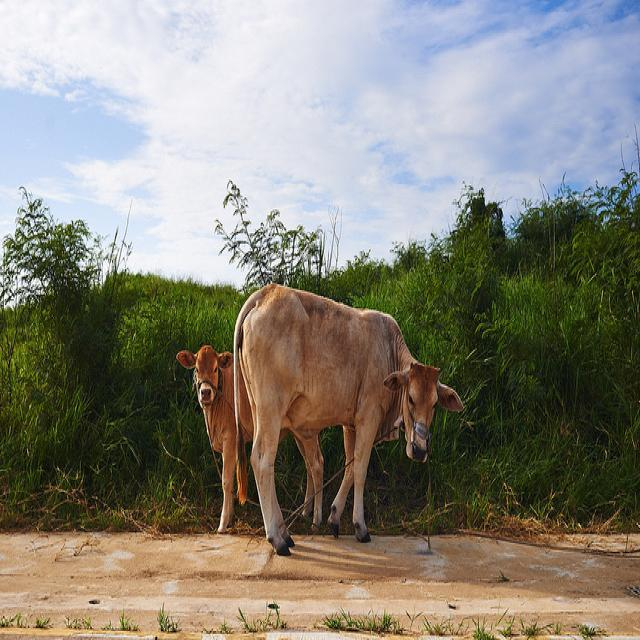cow: (232, 275, 468, 549), (174, 341, 255, 535)
